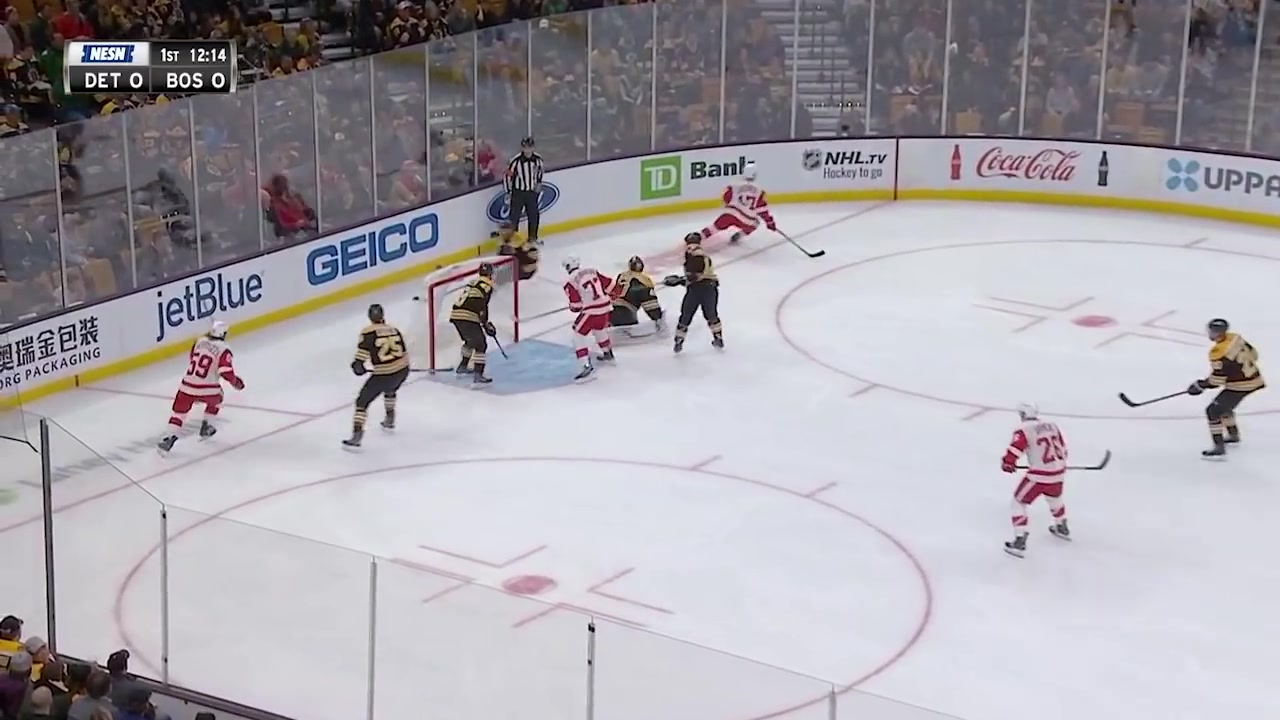Geico: (302, 209, 444, 291)
